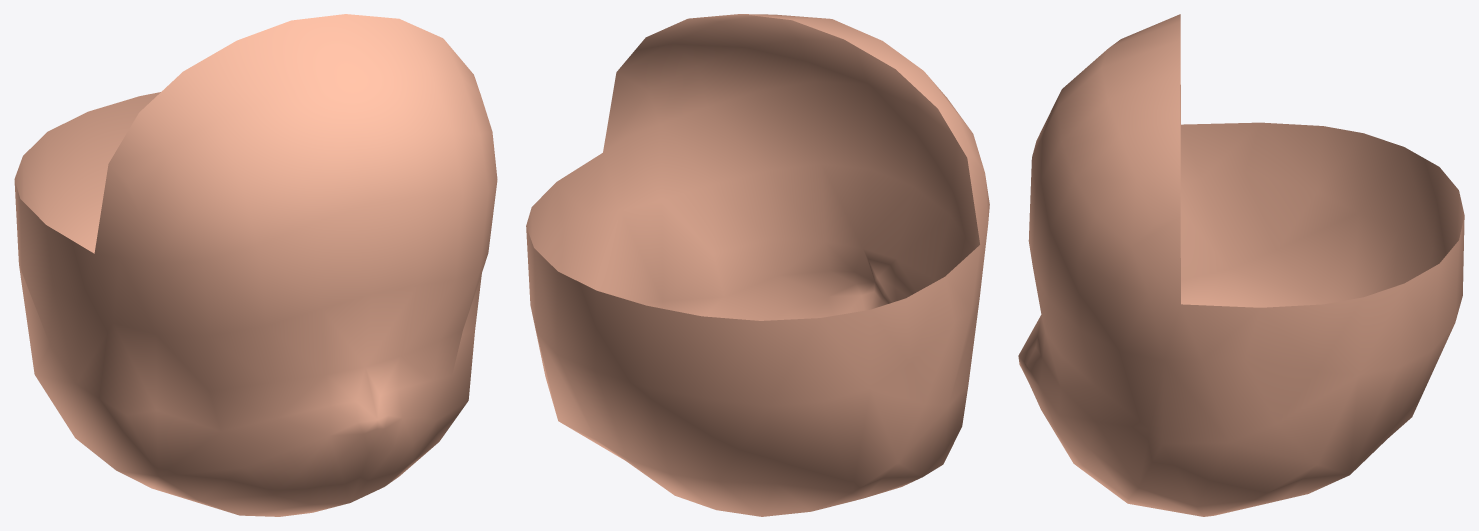
The picture shows the model from 3 angles, left to right: view 1: azimuth 30°, elevation 25°; view 2: azimuth 150°, elevation 25°; view 3: azimuth 270°, elevation 25°; orthographic projection. The views are drawn at different scales.
Visible parts, largest first — view 1: AF_M_Face_07; view 2: AF_M_Face_07; view 3: AF_M_Face_07.
Part boxes in pixels (x1,y1,x2,y2): AF_M_Face_07: [14, 14, 497, 516]; AF_M_Face_07: [526, 14, 989, 516]; AF_M_Face_07: [1018, 14, 1464, 516].
Bounding box in the file's own units: 655 × 731 × 661.
1 material, 1 textured.
